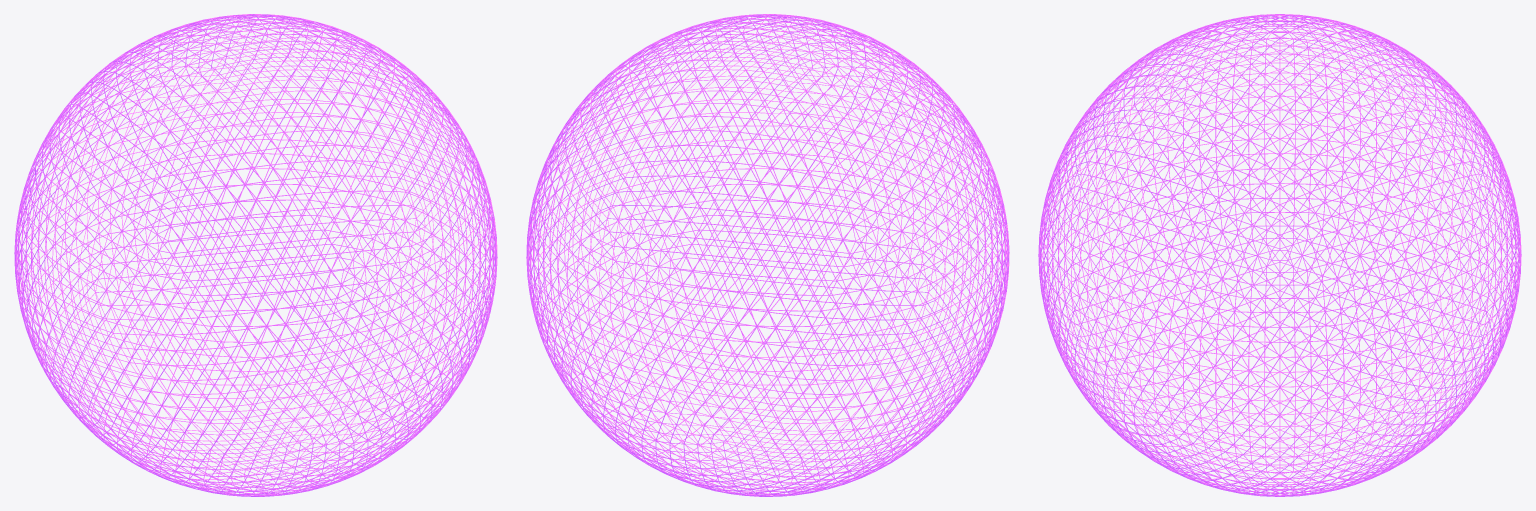
File: equip-Fresnel-3.fbx
3 views of the same model, side by side, from view 1: azimuth 30°, elevation 25°; view 2: azimuth 150°, elevation 25°; view 3: azimuth 270°, elevation 25° (orthographic).
Parts seen in each view (by area): view 1: Icosphere; view 2: Icosphere; view 3: Icosphere.
Boxes of the visible parts, left/top/right/bottom form: Icosphere: left=14, top=14, right=497, bottom=496; Icosphere: left=526, top=14, right=1009, bottom=496; Icosphere: left=1038, top=14, right=1521, bottom=496.
Bounding box in the file's own units: 52.91 × 52.88 × 52.91.
